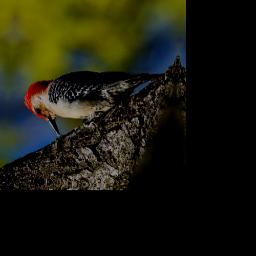Woodpecker: (21, 65, 163, 145)
